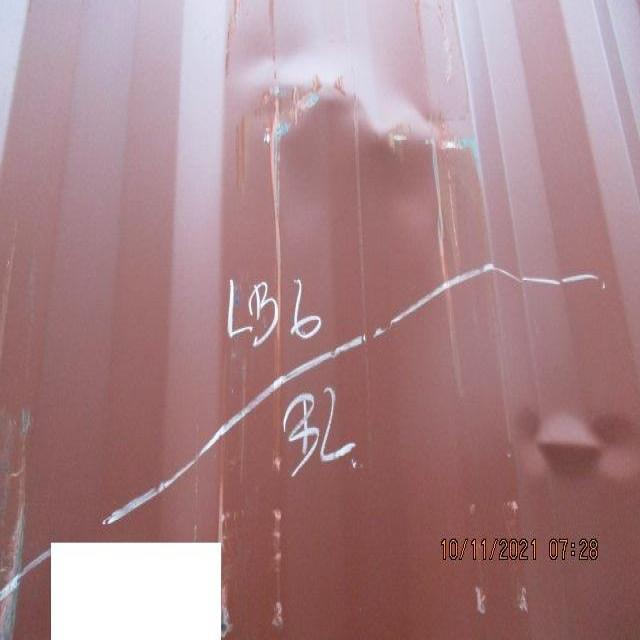Dent: (164, 39, 624, 296)
Minor-Dent: (501, 392, 637, 503)
